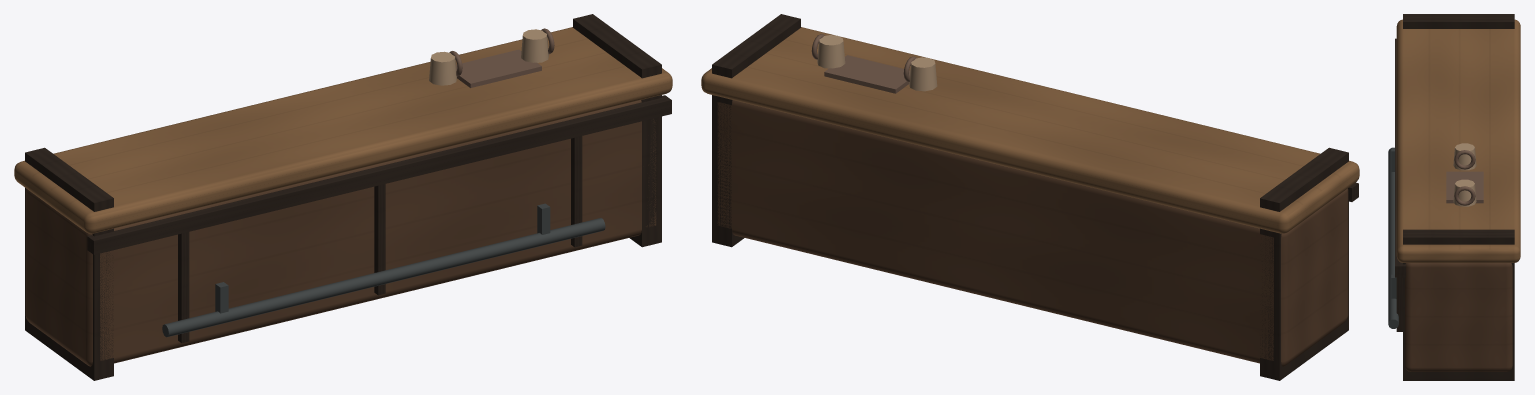
Rendered from sk-bar-counter.glb.
The picture shows the model from 3 angles, left to right: view 1: azimuth 30°, elevation 25°; view 2: azimuth 150°, elevation 25°; view 3: azimuth 270°, elevation 25°; orthographic projection. The views are drawn at different scales.
Visible parts, largest first — view 1: counter-body, counter-top, interior:bar_counter-static-wood-counter-dark, interior:bar_counter-static-iron-foot-rail, interior:bar_counter-static-ceramic-shadow, interior:bar_counter-static-ceramic-mug; view 2: counter-body, counter-top, interior:bar_counter-static-wood-counter-dark, interior:bar_counter-static-ceramic-shadow, interior:bar_counter-static-ceramic-mug; view 3: counter-top, counter-body, interior:bar_counter-static-wood-counter-dark, interior:bar_counter-static-iron-foot-rail, interior:bar_counter-static-ceramic-shadow, interior:bar_counter-static-ceramic-mug.
Part boxes in pixels (<box>): counter-body: <box>25,100,656,366</box>; counter-top: <box>14,27,672,233</box>; interior:bar_counter-static-wood-counter-dark: <box>25,14,671,380</box>; interior:bar_counter-static-iron-foot-rail: <box>162,203,605,337</box>; interior:bar_counter-static-ceramic-shadow: <box>449,28,554,87</box>; interior:bar_counter-static-ceramic-mug: <box>429,29,548,85</box>; counter-body: <box>717,100,1348,366</box>; counter-top: <box>701,27,1359,233</box>; interior:bar_counter-static-wood-counter-dark: <box>712,14,1358,380</box>; interior:bar_counter-static-ceramic-shadow: <box>811,34,916,93</box>; interior:bar_counter-static-ceramic-mug: <box>817,35,937,91</box>; counter-top: <box>1396,19,1520,262</box>; counter-body: <box>1405,263,1512,371</box>; interior:bar_counter-static-wood-counter-dark: <box>1395,14,1514,380</box>; interior:bar_counter-static-iron-foot-rail: <box>1388,147,1398,328</box>; interior:bar_counter-static-ceramic-shadow: <box>1446,150,1483,205</box>; interior:bar_counter-static-ceramic-mug: <box>1453,143,1476,206</box>.
Size of the model in its own units: 3.53 by 1.17 by 0.855.
6 materials, 3 textured.
